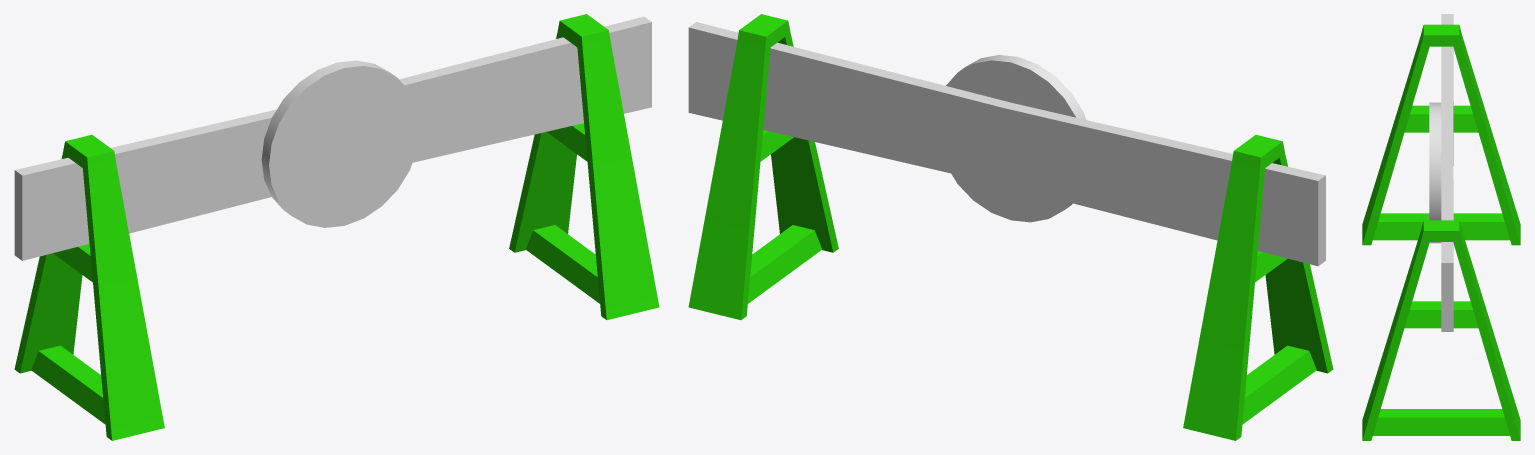
The model's file is Warningbord.fbx.
3 renders of one model, left to right at view 1: azimuth 30°, elevation 25°; view 2: azimuth 150°, elevation 25°; view 3: azimuth 270°, elevation 25°, orthographic. The views are drawn at different scales.
Parts seen in each view (by area): view 1: Warningboard2, Warningboard; view 2: Warningboard2, Warningboard; view 3: Warningboard, Warningboard2.
Part boxes in pixels (x1,y1,x2,y2): Warningboard2: (14,16,651,260); Warningboard: (14,14,659,440); Warningboard2: (688,22,1325,266); Warningboard: (688,14,1333,440); Warningboard: (1362,24,1520,440); Warningboard2: (1429,14,1453,331).
Size of the model in its own units: 2.56 by 1.07 by 0.6878.
